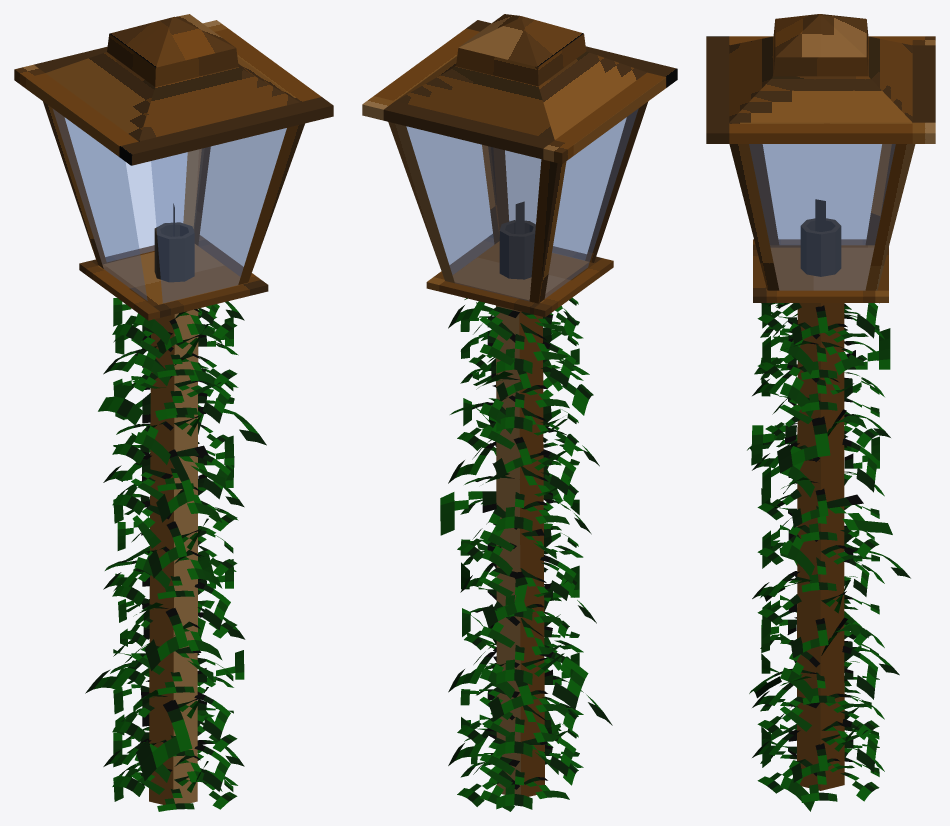
Rendered from lamp_post_889x04.gltf.
3 renders of one model, left to right at view 1: azimuth 30°, elevation 25°; view 2: azimuth 150°, elevation 25°; view 3: azimuth 270°, elevation 25°, orthographic.
Visible parts, largest first — view 1: lamp_post_889x04, leaves; view 2: lamp_post_889x04, leaves; view 3: lamp_post_889x04, leaves.
Part boxes in pixels (x1=…): lamp_post_889x04: x1=14, y1=14, x2=333, y2=804; leaves: x1=85, y1=298, x2=266, y2=811; lamp_post_889x04: x1=362, y1=14, x2=677, y2=796; leaves: x1=440, y1=297, x2=612, y2=811; lamp_post_889x04: x1=706, y1=14, x2=935, y2=790; leaves: x1=747, y1=303, x2=910, y2=811.
Bounding box in the file's own units: 2 × 7.42 × 2.
Materials: 2 (1 with a texture image).
